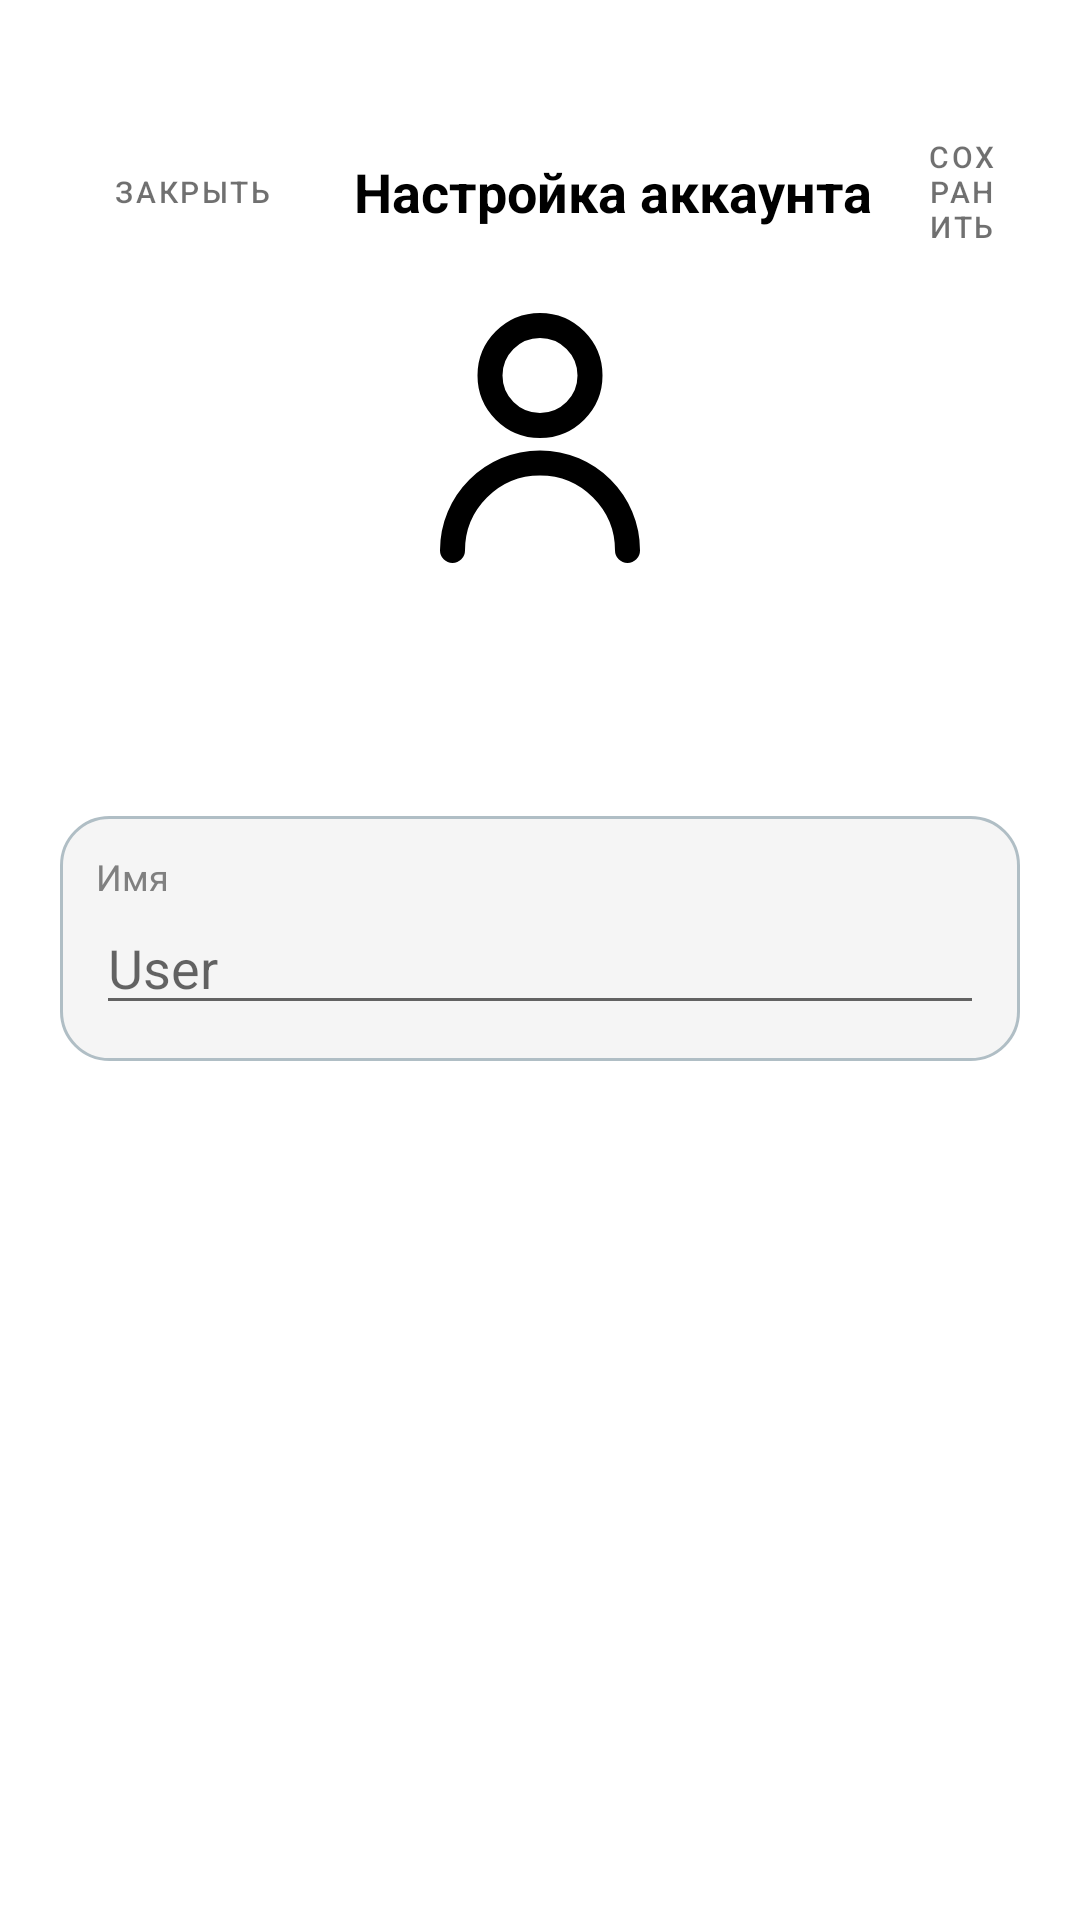

Screen size 1080 x 1920. Icon name, then its box in pixels as (x1, y1, x2, y2):
Аватар: (440, 313, 640, 563)
